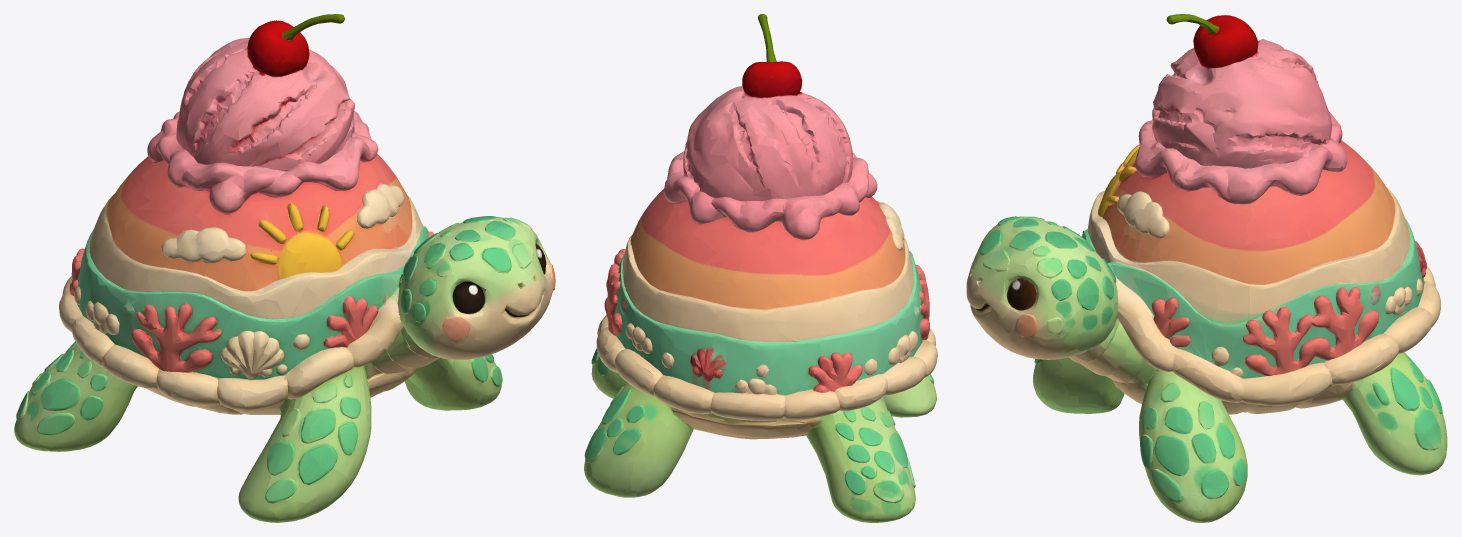
File: turtle.glb
The picture shows the model from 3 angles, left to right: view 1: azimuth 30°, elevation 25°; view 2: azimuth 150°, elevation 25°; view 3: azimuth 270°, elevation 25°; orthographic projection. The views are drawn at different scales.
Bounding box in the file's own units: 1.86 × 1.9 × 1.89.
Materials: 1 (1 with a texture image).
